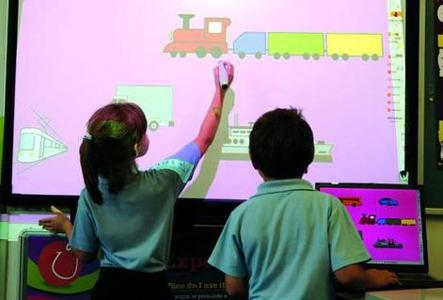person: (39, 60, 235, 299)
